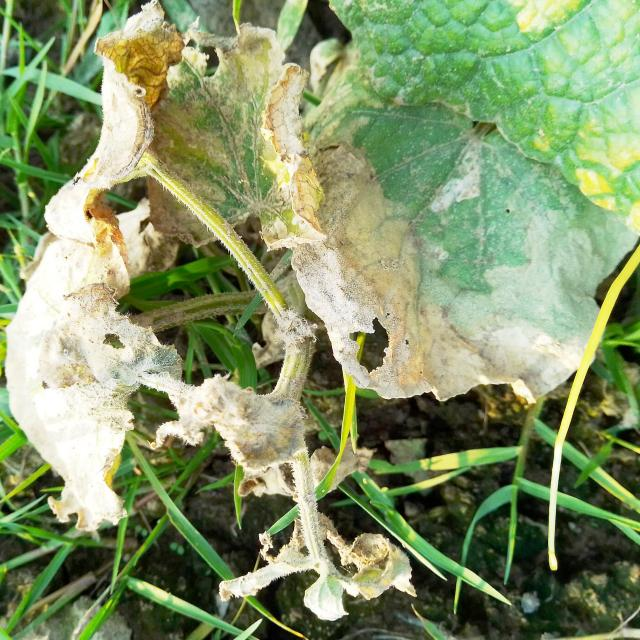Bacterial-Wilt: (1, 230, 187, 532), (43, 0, 191, 254)
